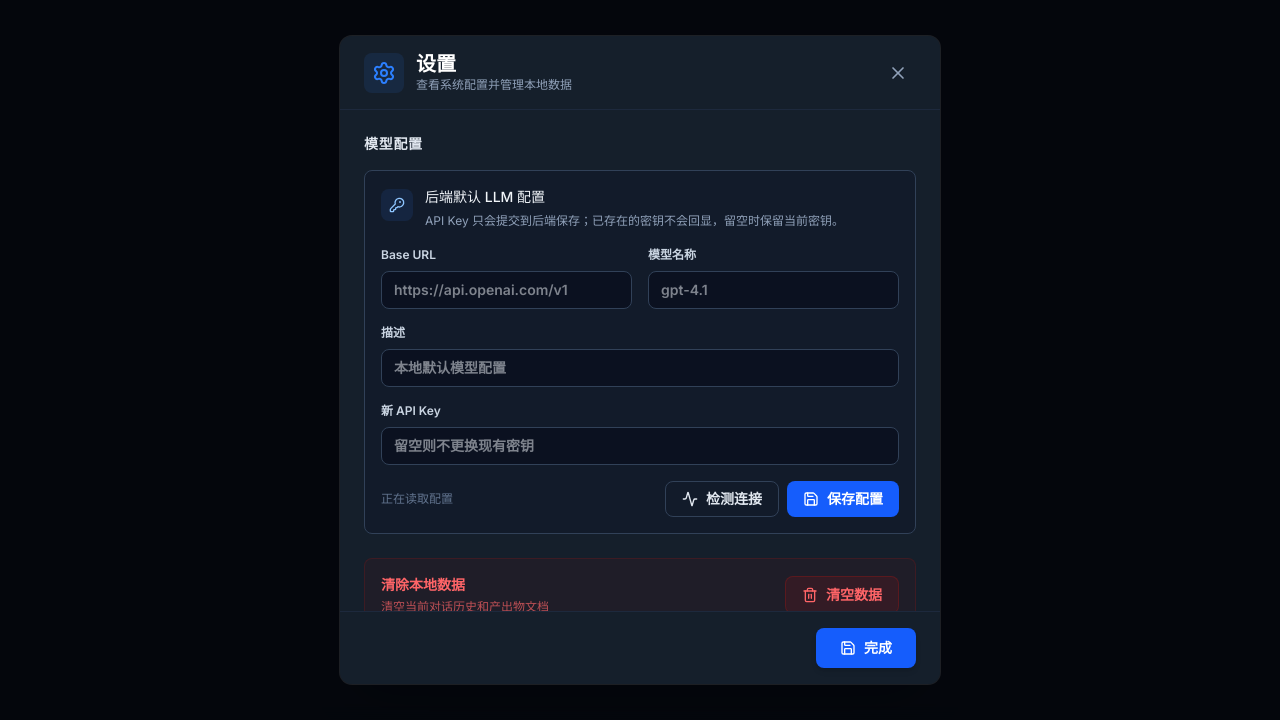
Test case: SettingsModal Component › checks current model availability from settings
Type " https://current.test/v1 " into the field labelled "Base URL" at (506, 290), box [381,270,632,308]
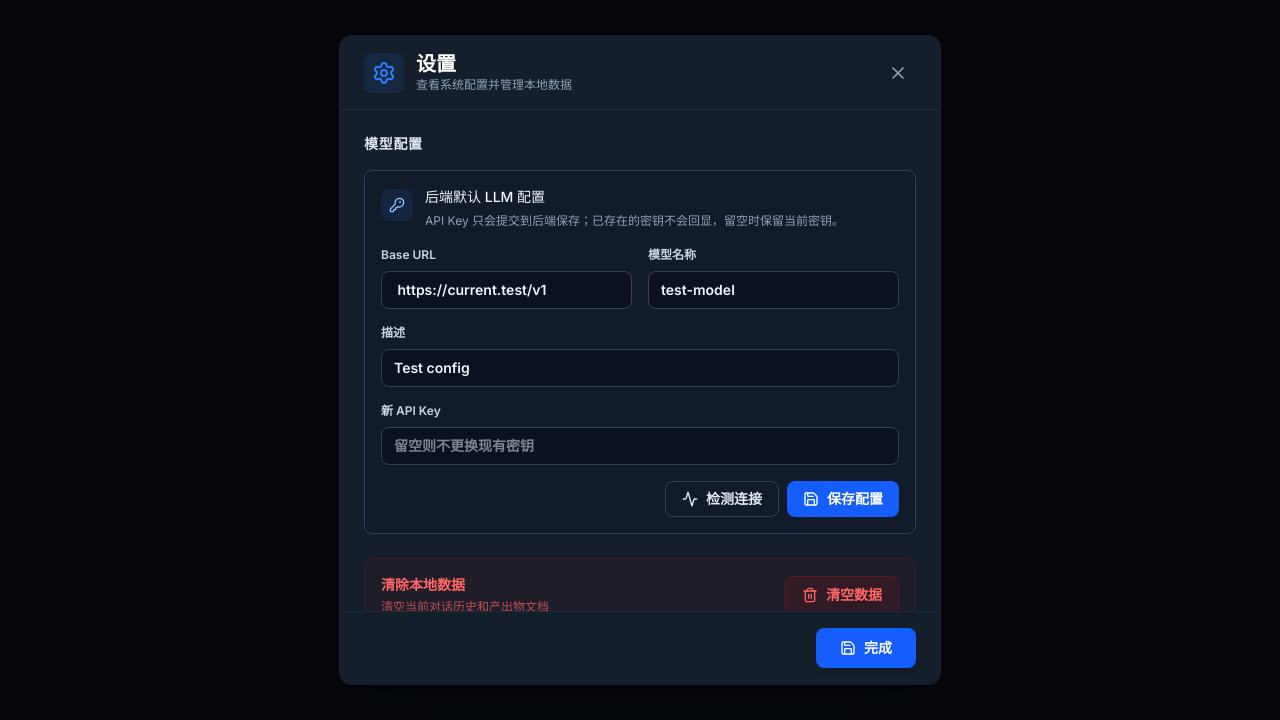
Replace the text in the field labelled "模型名称" with " current-model " at (774, 290), box [648,270,899,308]
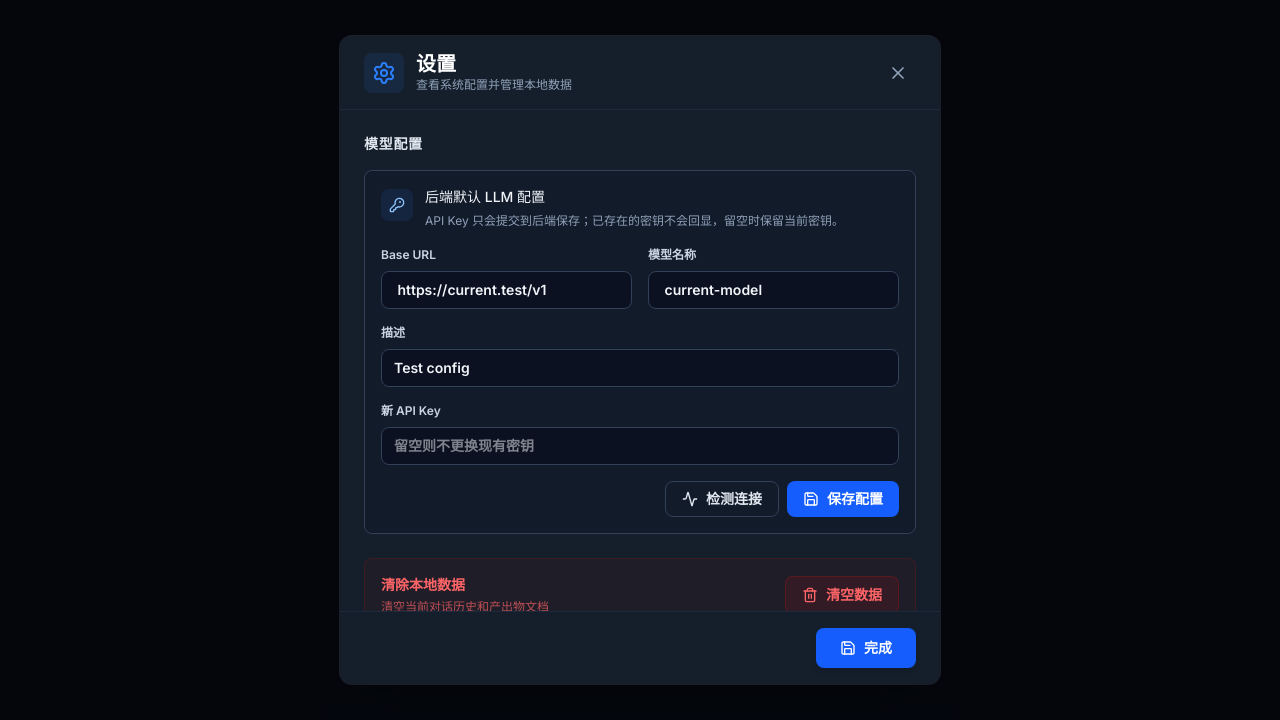
Replace the text in the field labelled "描述" with " Current config " at (640, 368), box [381,348,899,386]
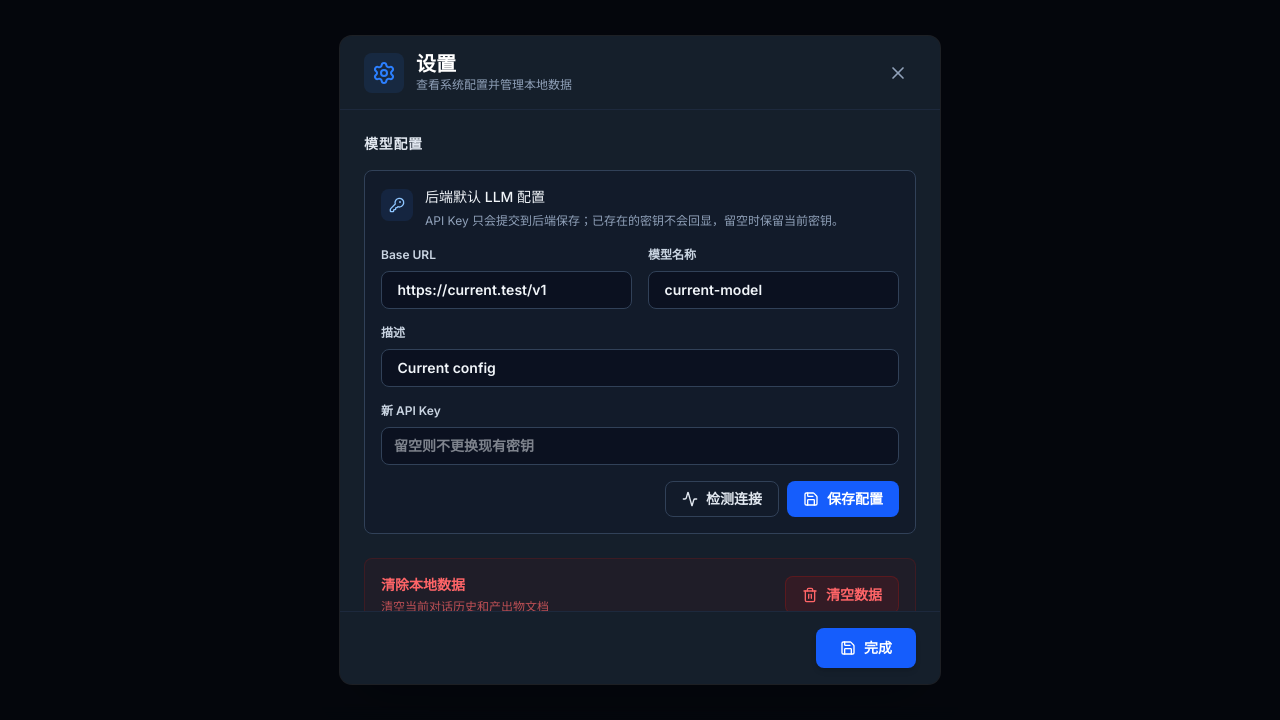
Type " current-secret " into the password field labelled "新 API Key" at (640, 446), box [381,426,899,464]
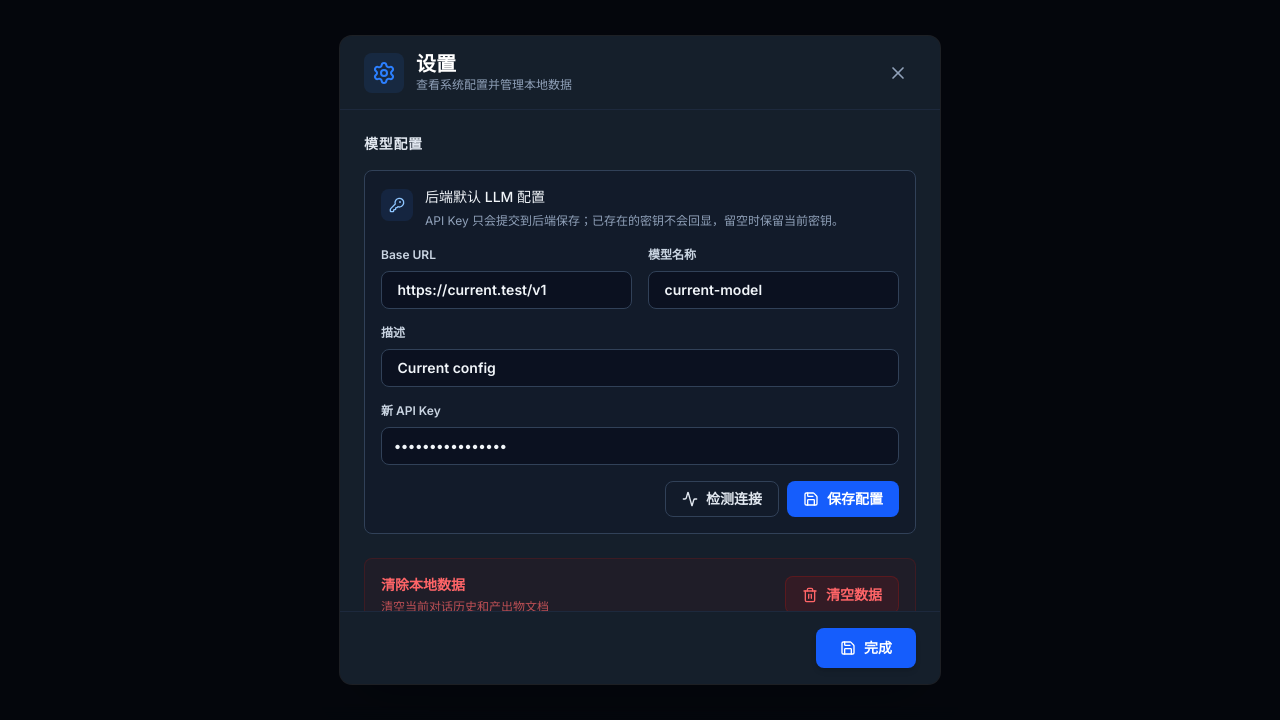
Click the button "检测连接" at (722, 498), box [665,480,779,516]
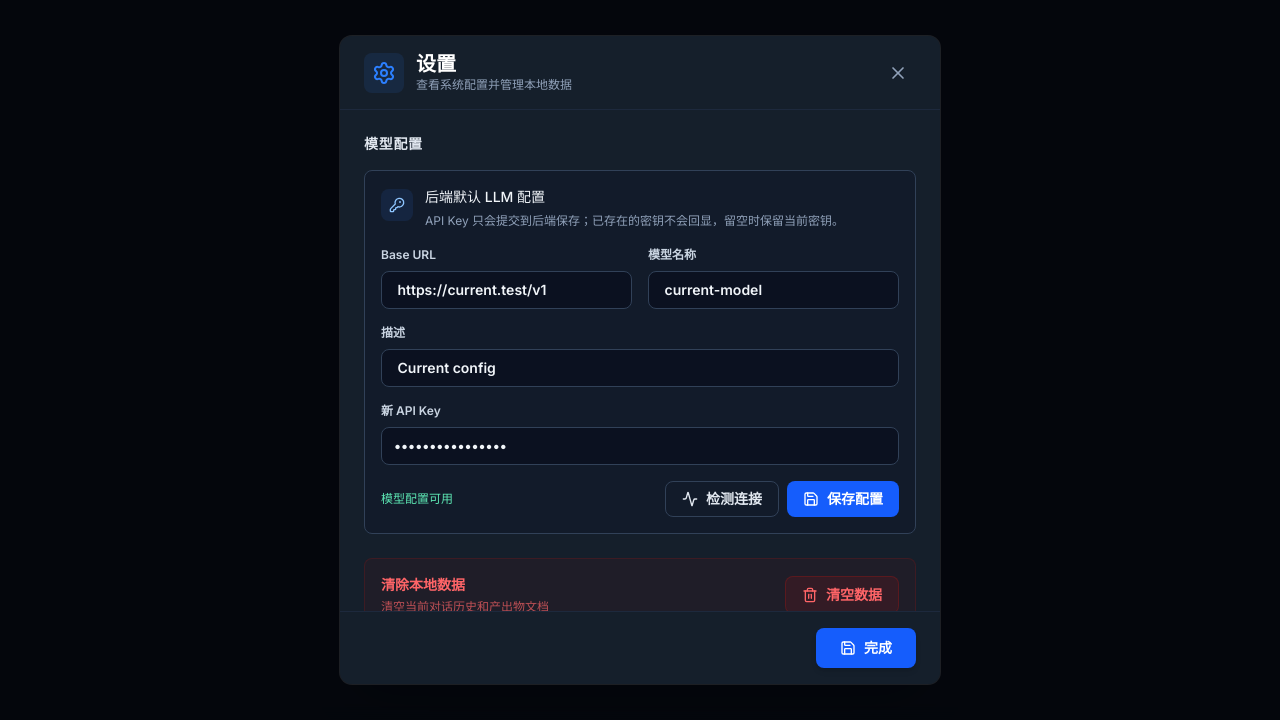
Expected: the text "模型配置可用" is shown, [381,490,453,506]
